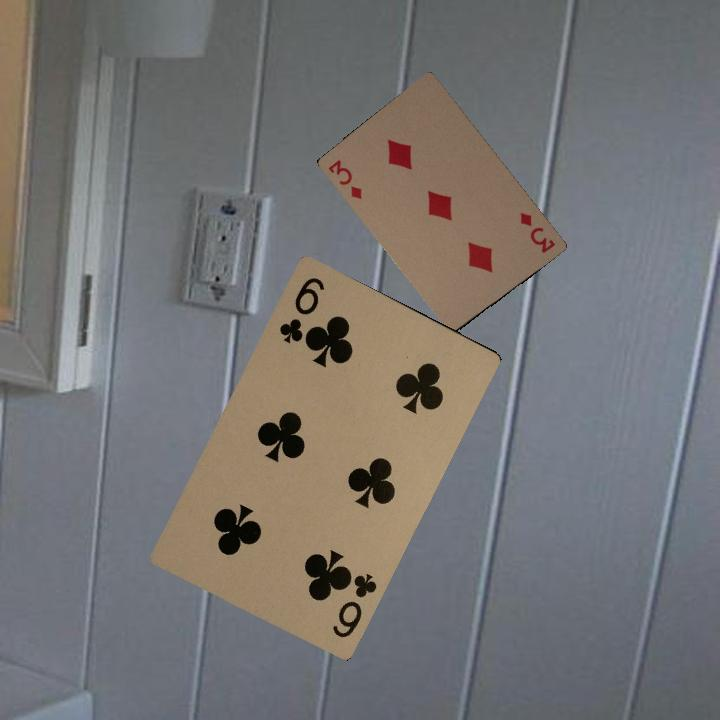3d: (322, 155, 365, 202), (516, 208, 558, 256)
6c: (327, 567, 380, 641), (275, 273, 327, 346)
